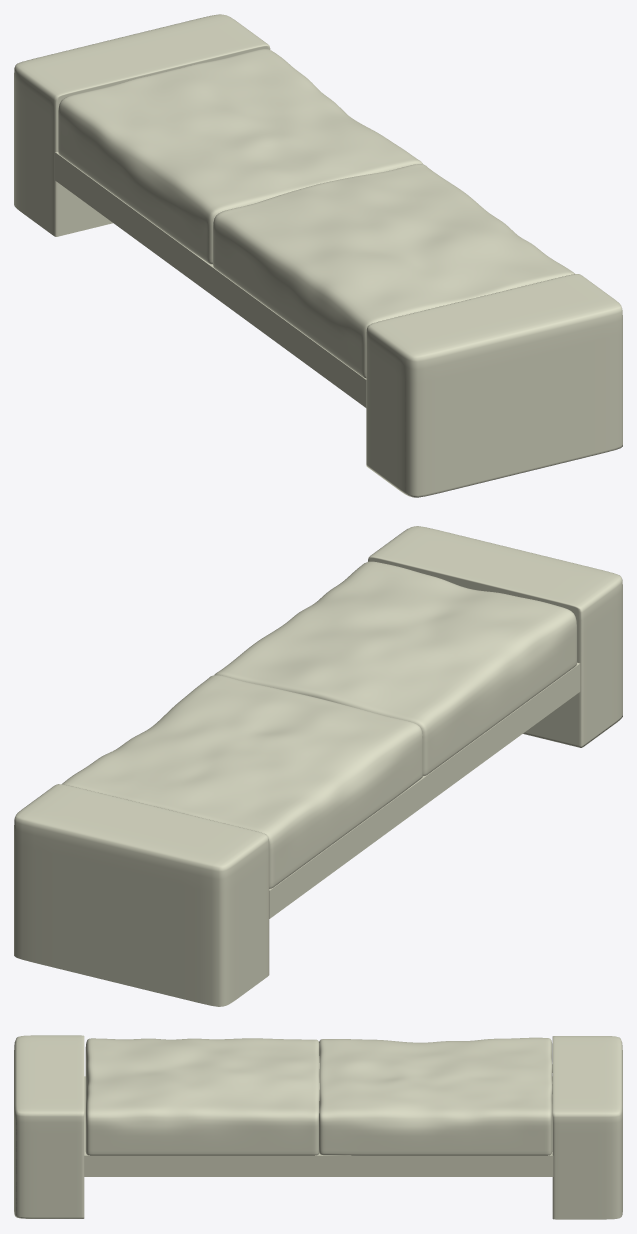
Rendered from sofa.glb.
3 renders of one model, top to bottom at view 1: azimuth 30°, elevation 25°; view 2: azimuth 150°, elevation 25°; view 3: azimuth 270°, elevation 25°, orthographic. The views are drawn at different scales.
Parts seen in each view (by area): view 1: SOFA.002; view 2: SOFA.002; view 3: SOFA.002.
Boxes of the visible parts, left/top/right/bottom form: SOFA.002: left=14, top=14, right=622, bottom=497; SOFA.002: left=14, top=526, right=622, bottom=1006; SOFA.002: left=14, top=1035, right=622, bottom=1219.
Size of the model in its own units: 0.8062 by 0.5371 by 2.6.
